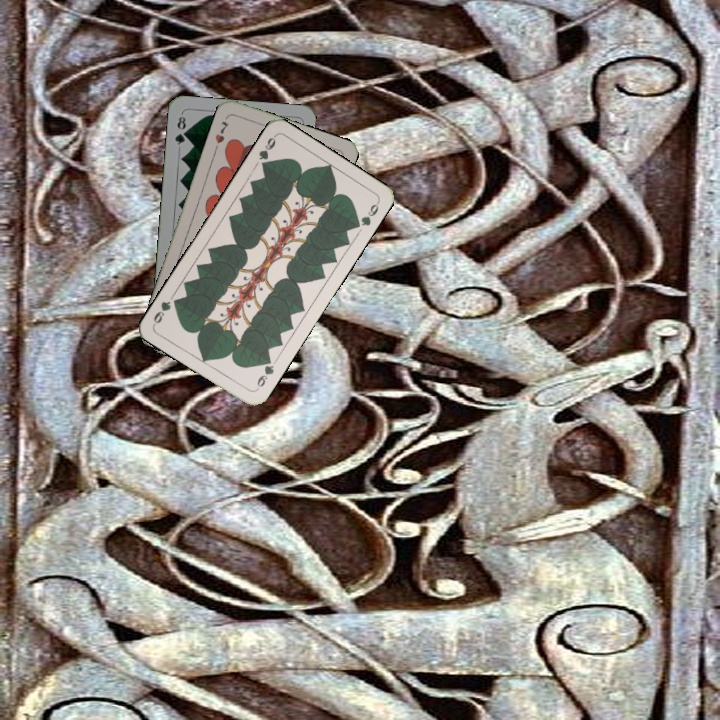G8: (171, 112, 189, 147)
G9: (252, 353, 277, 393), (255, 132, 279, 171)
H7: (211, 117, 232, 146)
